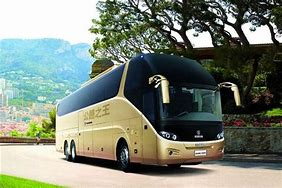bigcar: (49, 47, 244, 169)
